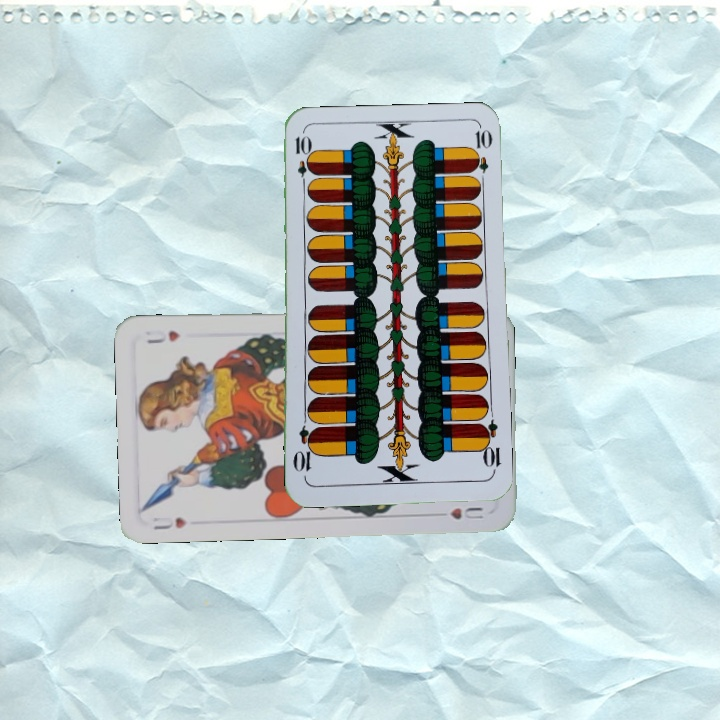E10: (476, 417, 503, 476), (291, 132, 310, 191)
HU: (150, 513, 190, 533)
